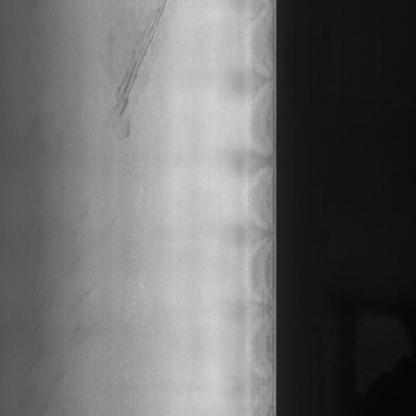water_spot: (99, 4, 177, 154)
